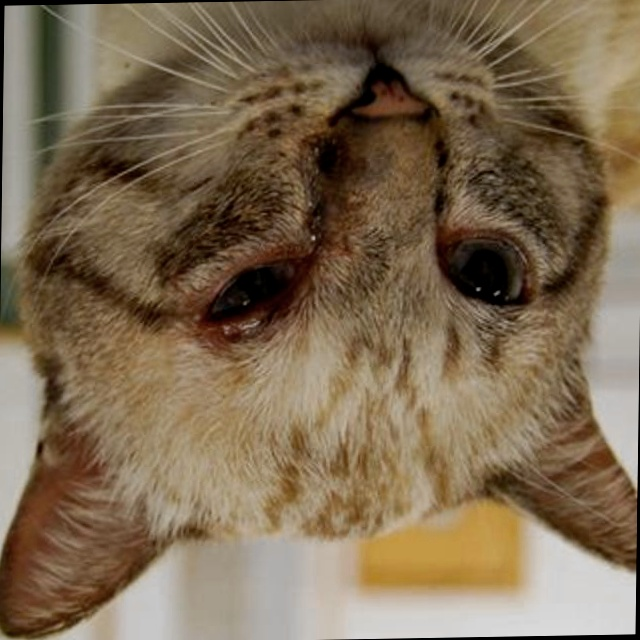eye_infection: (431, 226, 540, 318), (199, 248, 311, 334)
